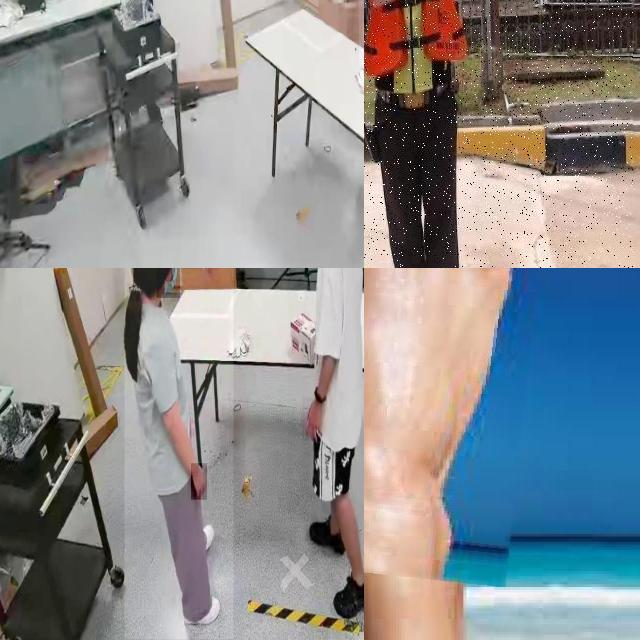Barefoots: (364, 268, 544, 581)
face_mask: (156, 268, 179, 298)
hand_noglove: (302, 397, 322, 442), (191, 463, 207, 501), (361, 23, 364, 49)
person: (364, 0, 633, 268), (124, 268, 233, 640), (287, 268, 364, 629)
shoes: (308, 512, 345, 558), (332, 568, 364, 621)
vest: (366, 0, 467, 94)
